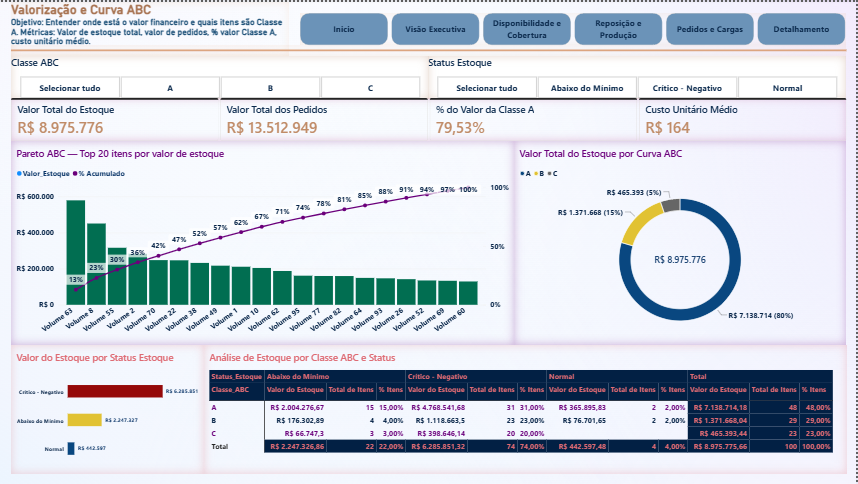

The dashboard page shown, as its layout file describes it:
{"tool":"powerbi","page":{"name":"Valorização e Curva ABC","canvas":[1920,1080],"ordinal":4},"visuals":[{"type":"textbox","box":[24,0,624,120],"z":0},{"type":"pageNavigator","box":[672,24,1224,72],"z":1000},{"type":"shape","box":[24,96,1872,24],"z":2000},{"type":"slicer","title":"Status Estoque","fields":{"Values":["fEstoque.Status_Estoque"]},"box":[960,120,936,96],"z":2001},{"type":"slicer","title":"Classe ABC","fields":{"Values":["fEstoque.Classe_ABC"]},"box":[24,120,936,96],"z":2002},{"type":"cardVisual","fields":{"Data":["_Medidas.Valor_Estoque_Total","_Medidas.Valor_Pedidos_Total","_Medidas.%_Valor_Classe_A","_Medidas.Custo_Unitario_Medio"]},"box":[24,216,1872,96],"z":2003},{"type":"lineClusteredColumnComboChart","title":"Pareto ABC — Top 20 itens por valor de estoque","fields":{"Category":["fEstoque.Item","fEstoque.Descricao_do_Item"],"Y":["Sum(fEstoque.Valor_Estoque)"],"Y2":["_Medidas.Valor_Acumulado_ABC_Medida"]},"box":[24,312,1128,456],"z":2004},{"type":"donutChart","title":"Valor Total do Estoque por Curva ABC","fields":{"Category":["fEstoque.Classe_ABC"],"Y":["_Medidas.Valor_Estoque_Total"]},"box":[1152,312,744,456],"z":2005},{"type":"barChart","title":"Valor do Estoque por Status Estoque","fields":{"Category":["fEstoque.Status_Estoque"],"Y":["Sum(fEstoque.Valor_Estoque)"]},"box":[24,768,432,288],"z":2006},{"type":"pivotTable","title":"Análise de Estoque por Classe ABC e Status","fields":{"Columns":["fEstoque.Status_Estoque"],"Rows":["fEstoque.Classe_ABC"],"Values":["_Medidas.Valor_Estoque_Total","_Medidas.Total_Itens","Divide(_Medidas.Total_Itens, ScopedEval(_Medidas.Total_Itens, []))"]},"box":[456,768,1440,288],"z":2007}]}

Visuals, with their boxes in screenshot pixels (x1, y1, x2, y2), scaled from the page's 1920x1080 canvas onto the 858x484 screenshot:
textbox: l=11, t=0, r=290, b=54
pageNavigator: l=300, t=11, r=847, b=43
shape: l=11, t=43, r=847, b=54
"Status Estoque" slicer: l=429, t=54, r=847, b=97
"Classe ABC" slicer: l=11, t=54, r=429, b=97
cardVisual - _Medidas.Valor_Estoque_Total x _Medidas.Valor_Pedidos_Total: l=11, t=97, r=847, b=140
"Pareto ABC — Top 20 itens por valor de estoque" lineClusteredColumnComboChart: l=11, t=140, r=515, b=344
"Valor Total do Estoque por Curva ABC" donutChart: l=515, t=140, r=847, b=344
"Valor do Estoque por Status Estoque" barChart: l=11, t=344, r=204, b=473
"Análise de Estoque por Classe ABC e Status" pivotTable: l=204, t=344, r=847, b=473
